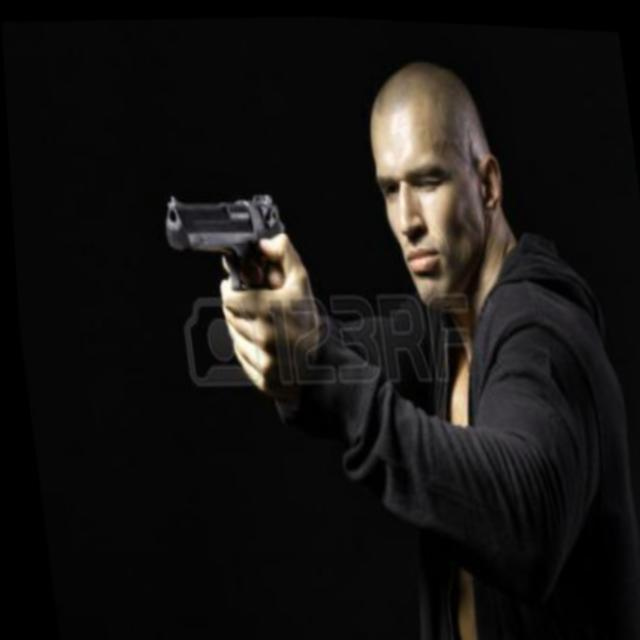weapon: (148, 168, 324, 392)
